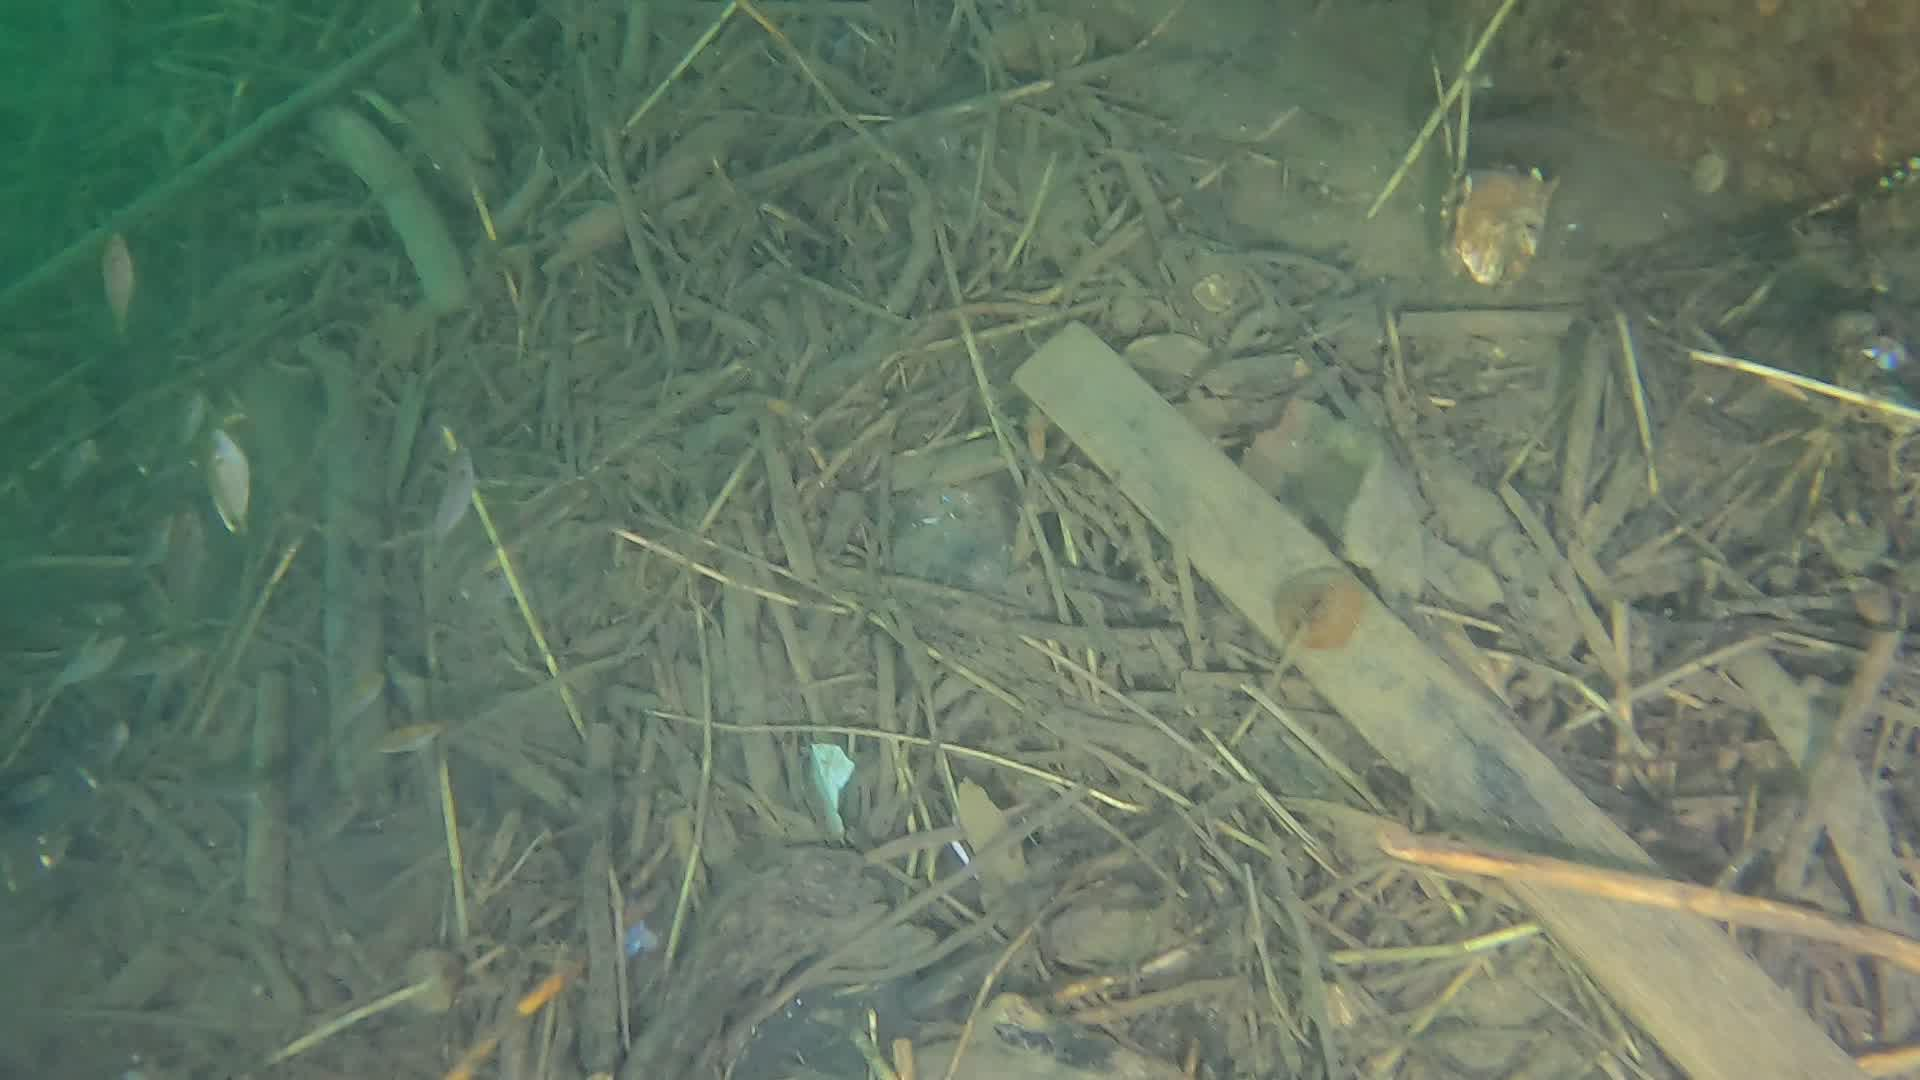wood: (1009, 316, 1870, 1080)
